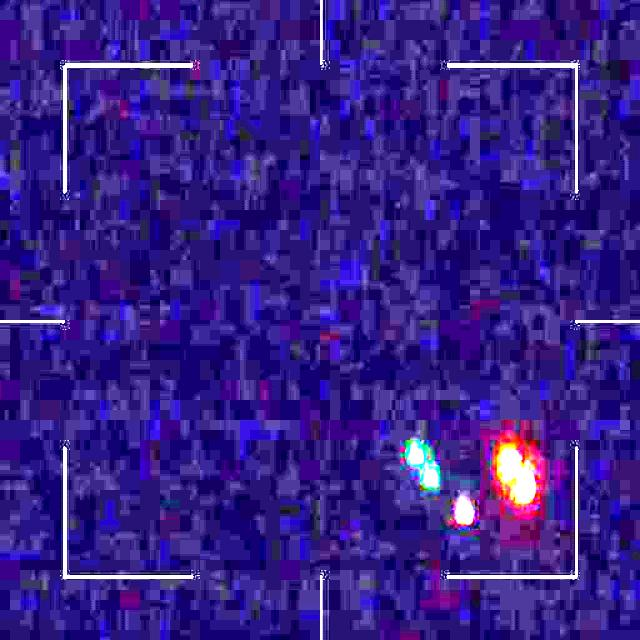bird: (406, 434, 536, 526)
